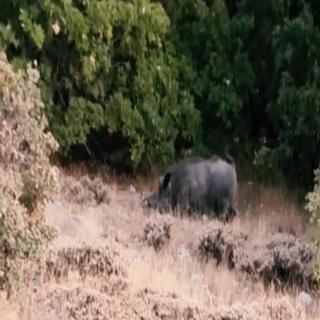Pig: (131, 134, 254, 253)
